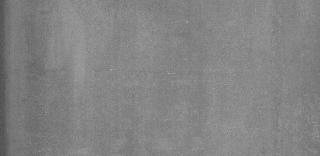scratches: (103, 66, 191, 86)
